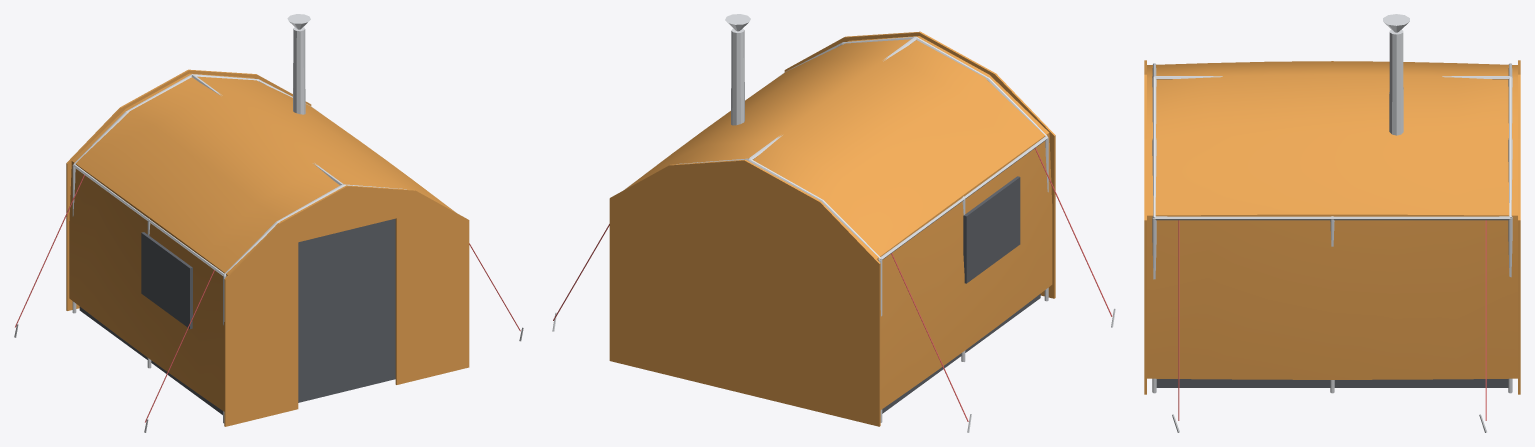
Rendered from mountaineering-and-summit-expedition-kitchen-tent-0d1245fa__18796.glb.
The picture shows the model from 3 angles, left to right: view 1: azimuth 30°, elevation 25°; view 2: azimuth 150°, elevation 25°; view 3: azimuth 270°, elevation 25°; orthographic projection. The views are drawn at different scales.
Parts seen in each view (by area): view 1: kitchen-tent; view 2: kitchen-tent; view 3: kitchen-tent.
Boxes of the visible parts, x1,y1,x2,y2 form: kitchen-tent: (14,14,523,432); kitchen-tent: (552,14,1115,432); kitchen-tent: (1144,14,1520,432).
Bounding box in the file's own units: 4.02 × 2.92 × 2.94.
